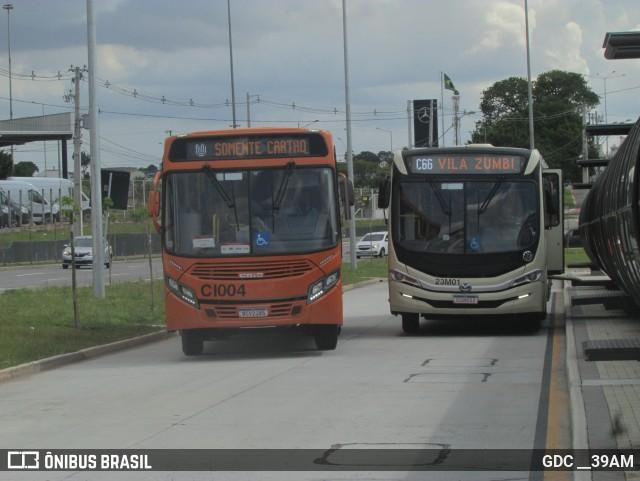VILA ZUMBI: (434, 155, 519, 173)
